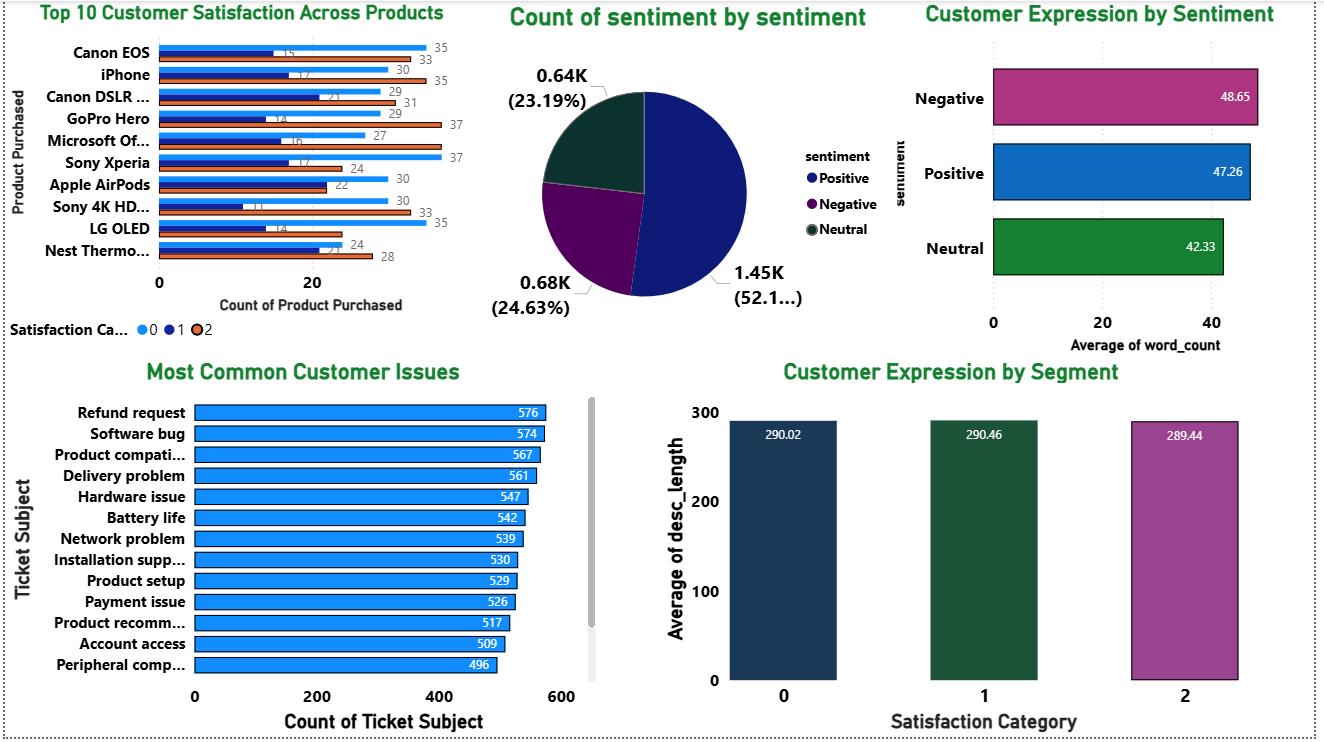

Layout of this report page (visuals, bound fields, positions):
{"tool":"powerbi","page":{"name":"NLP & Issue Analysis","canvas":[1280,720],"ordinal":1},"visuals":[{"type":"clusteredBarChart","title":"Most Common Customer Issues","fields":{"Category":["customer_support_tickets.Ticket Subject"],"Y":["CountNonNull(customer_support_tickets.Ticket Subject)"]},"box":[0,349.9,583.2,370.5],"z":0},{"type":"clusteredColumnChart","title":"Customer Expression by Segment","fields":{"Category":["final_dataset.Satisfaction Category"],"Y":["Avg(final_dataset.desc_length)"]},"box":[639.5,349.7,572.3,370.5],"z":1000},{"type":"clusteredBarChart","title":"Customer Expression by Sentiment","fields":{"Category":["final_dataset.sentiment"],"Y":["Avg(final_dataset.word_count)"]},"box":[862.1,0,418.2,349.7],"z":2000},{"type":"pieChart","fields":{"Category":["final_dataset.sentiment"],"Y":["CountNonNull(final_dataset.sentiment)"]},"box":[463.5,1.2,409.6,348.5],"z":3000},{"type":"clusteredBarChart","title":"Top 10 Customer Satisfaction Across Products","fields":{"Category":["final_dataset.Product Purchased"],"Y":["CountNonNull(final_dataset.Product Purchased)"],"Series":["final_dataset.Satisfaction Category"]},"box":[0,0,463.5,341.2],"z":4000}]}

Visuals, with their boxes in screenshot pixels (x1, y1, x2, y2), scaled from the page's 1280x720 canvas onto the 1324x742 screenshot:
"Most Common Customer Issues" clusteredBarChart: (0, 361, 603, 741)
"Customer Expression by Segment" clusteredColumnChart: (661, 360, 1253, 741)
"Customer Expression by Sentiment" clusteredBarChart: (892, 0, 1323, 360)
pieChart - final_dataset.sentiment x CountNonNull(final_dataset.sentiment): (479, 1, 903, 360)
"Top 10 Customer Satisfaction Across Products" clusteredBarChart: (0, 0, 479, 352)
